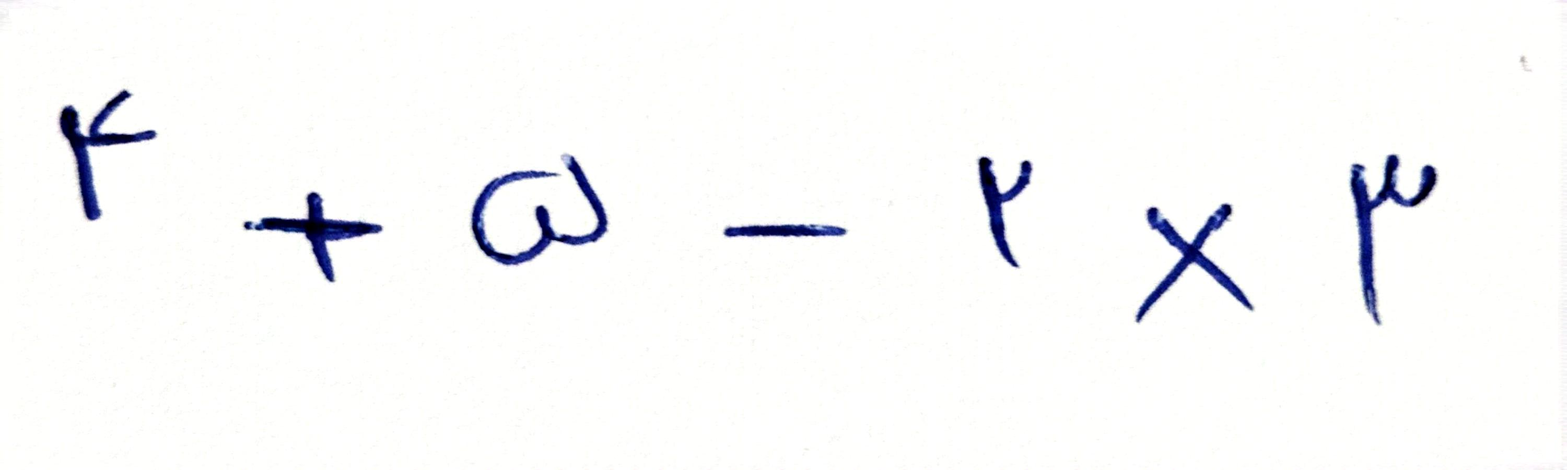character: (471, 151, 609, 265), (1349, 155, 1441, 323), (1135, 201, 1256, 318), (241, 189, 383, 286), (58, 86, 158, 218), (979, 155, 1034, 272), (723, 226, 849, 240)
